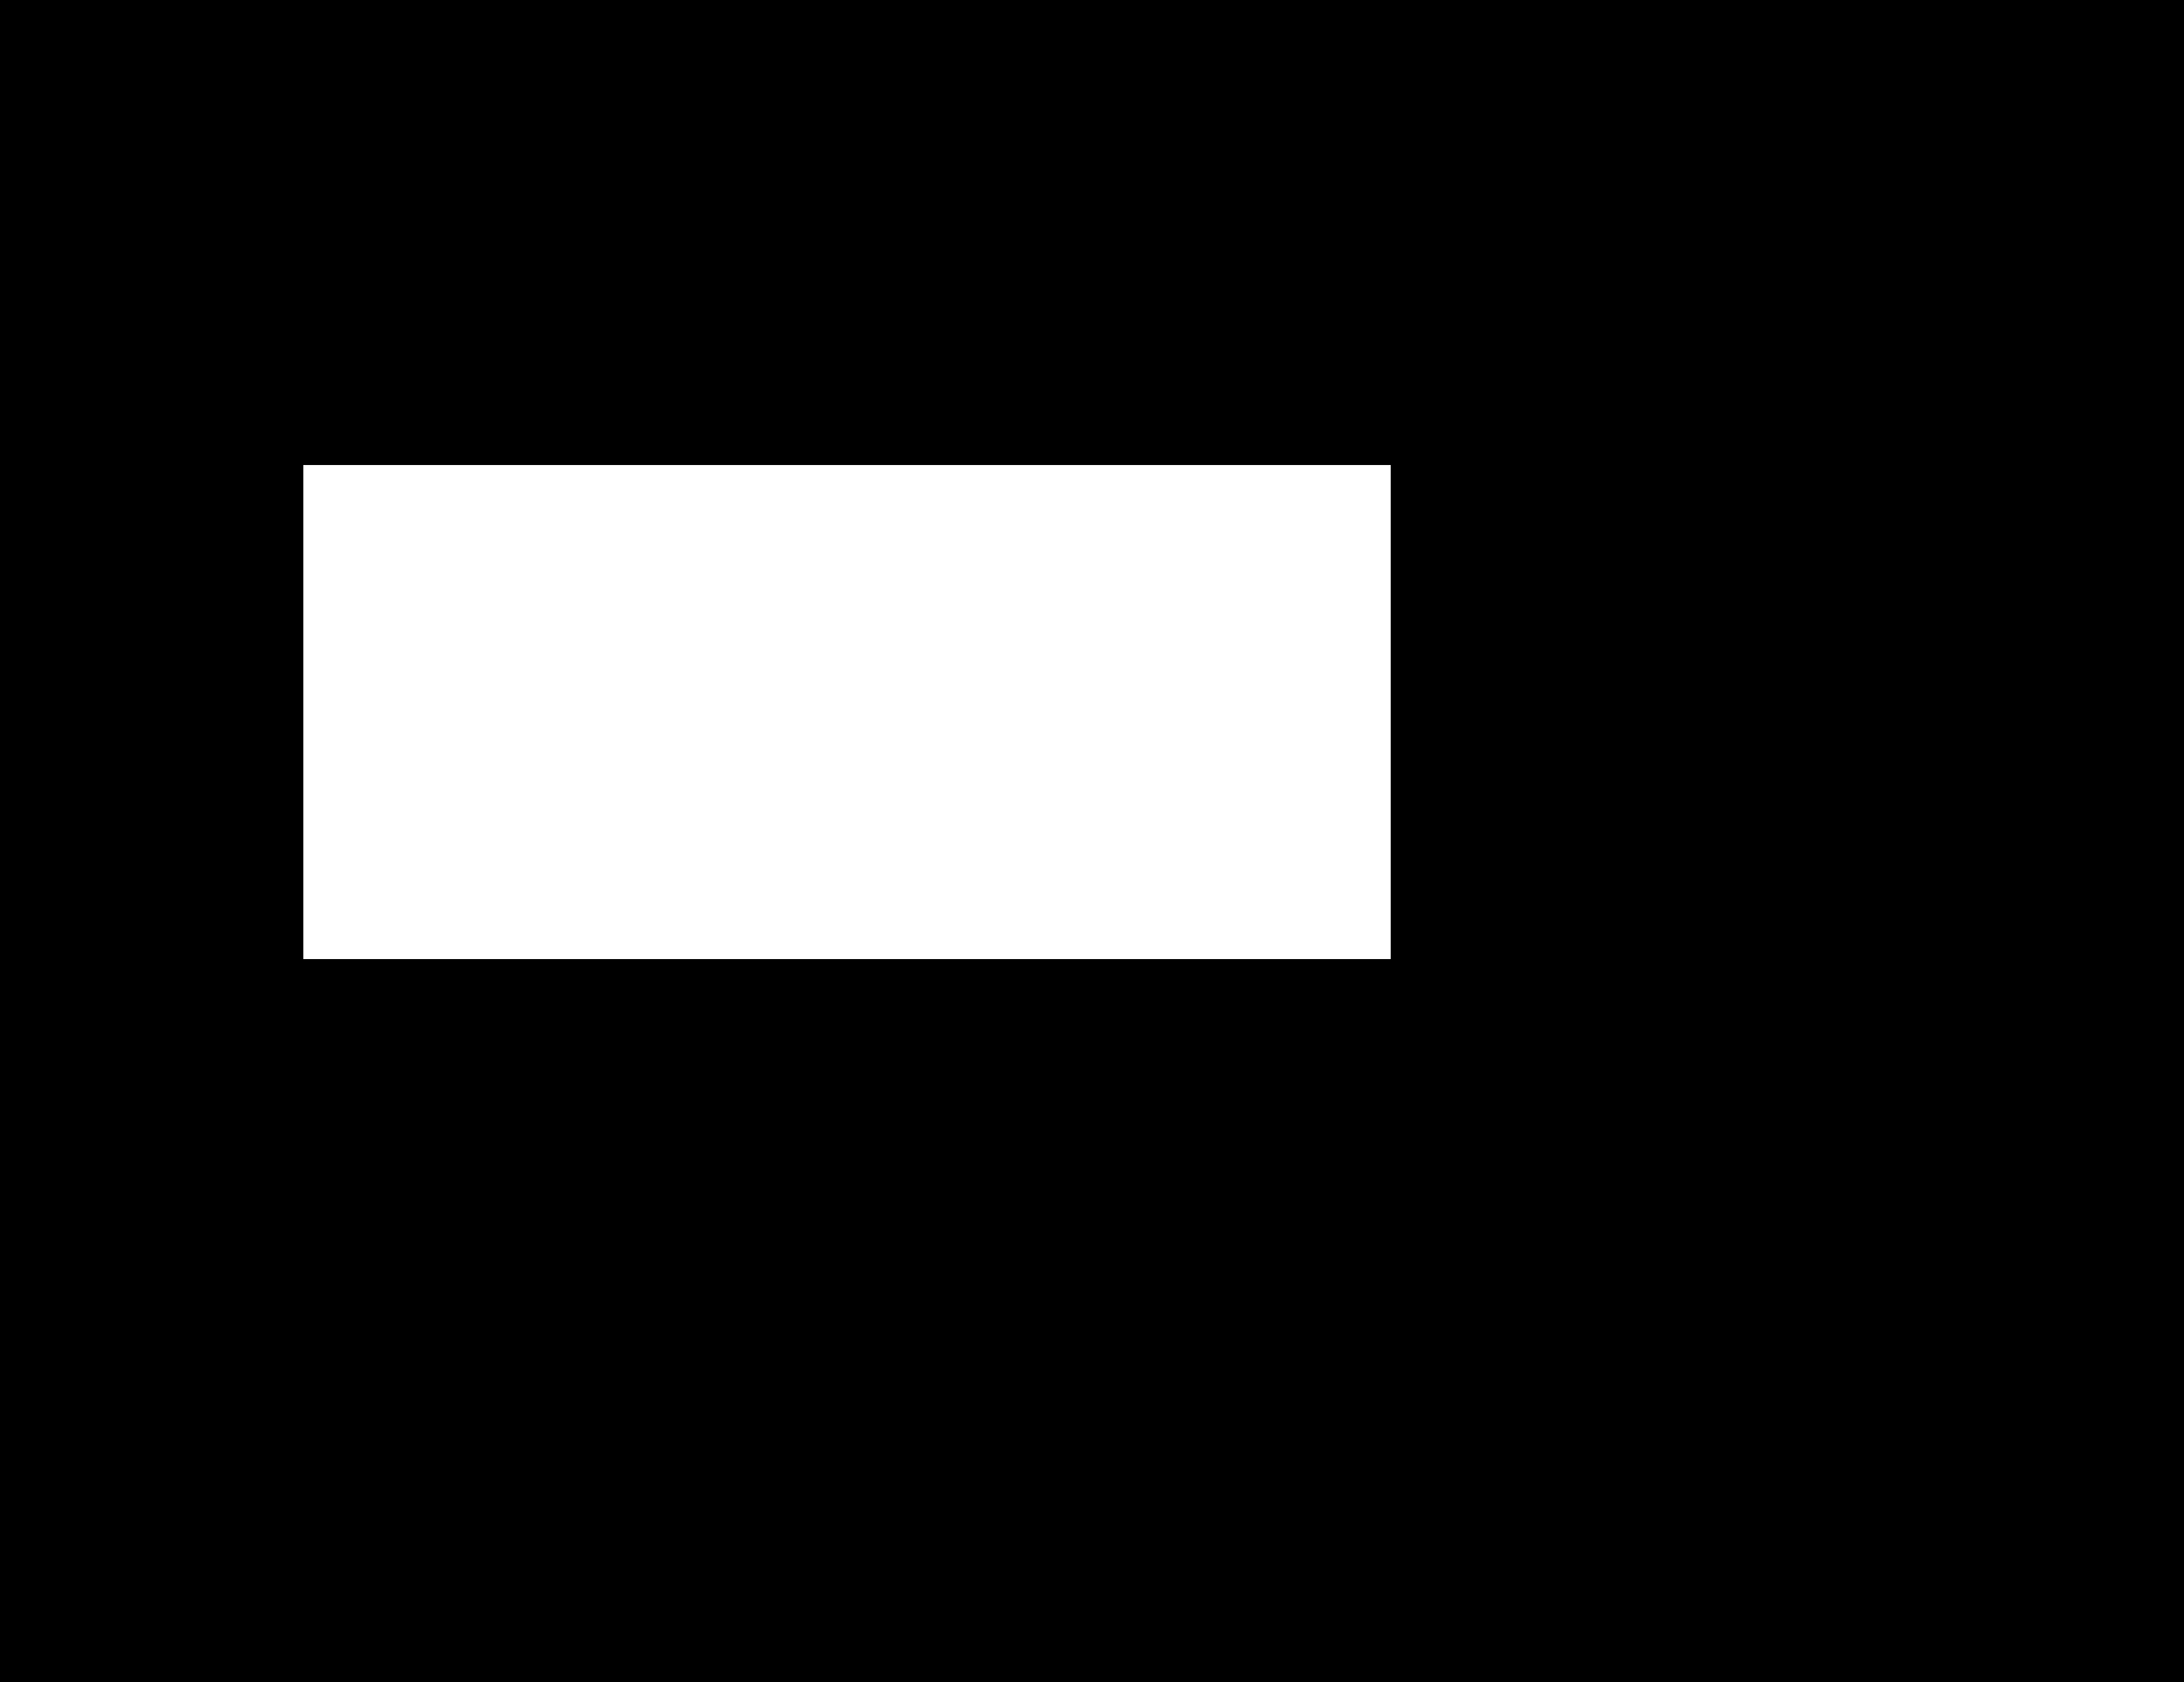table: (304, 465, 1389, 958)
